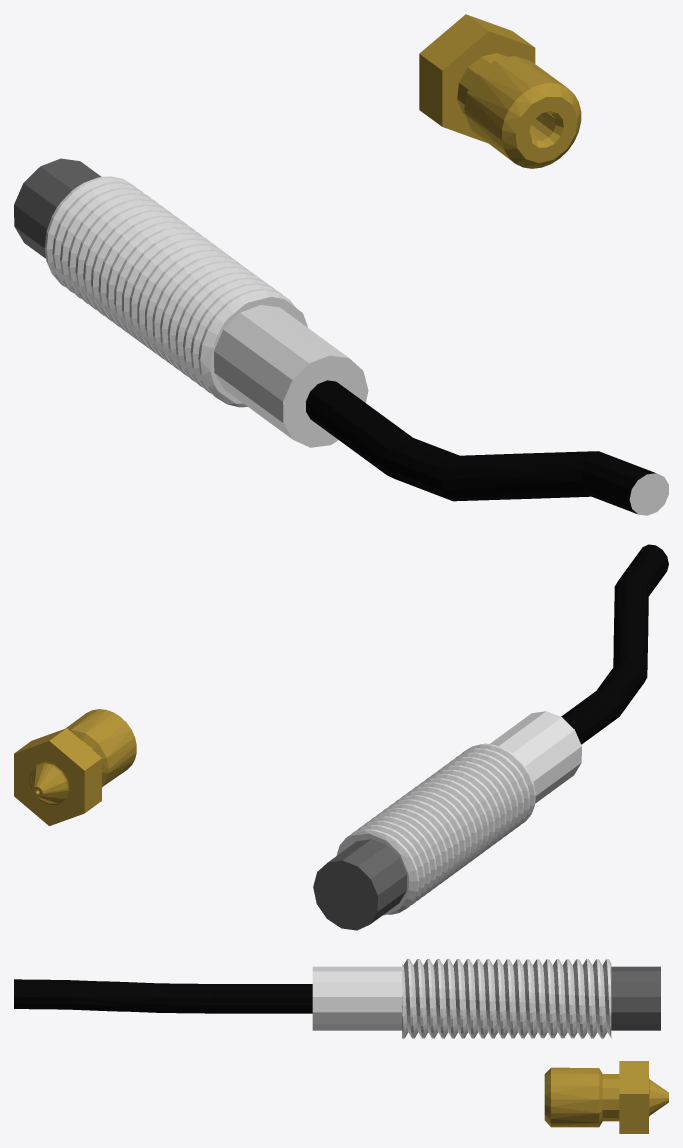
File: Mini_Extruder_Lite.obj
3 views of the same model, one above another, from view 1: azimuth 30°, elevation 25°; view 2: azimuth 150°, elevation 25°; view 3: azimuth 270°, elevation 25° (orthographic). The views are drawn at different scales.
Parts seen in each view (by area): view 1: Prusa_Mini; view 2: Prusa_Mini; view 3: Prusa_Mini.
Part boxes in pixels (box(x1,y1,x2,y2)): Prusa_Mini: box(14, 14, 668, 515); Prusa_Mini: box(14, 544, 668, 930); Prusa_Mini: box(14, 959, 668, 1133).
Bounding box in the file's own units: 37.58 × 11.14 × 65.81.
